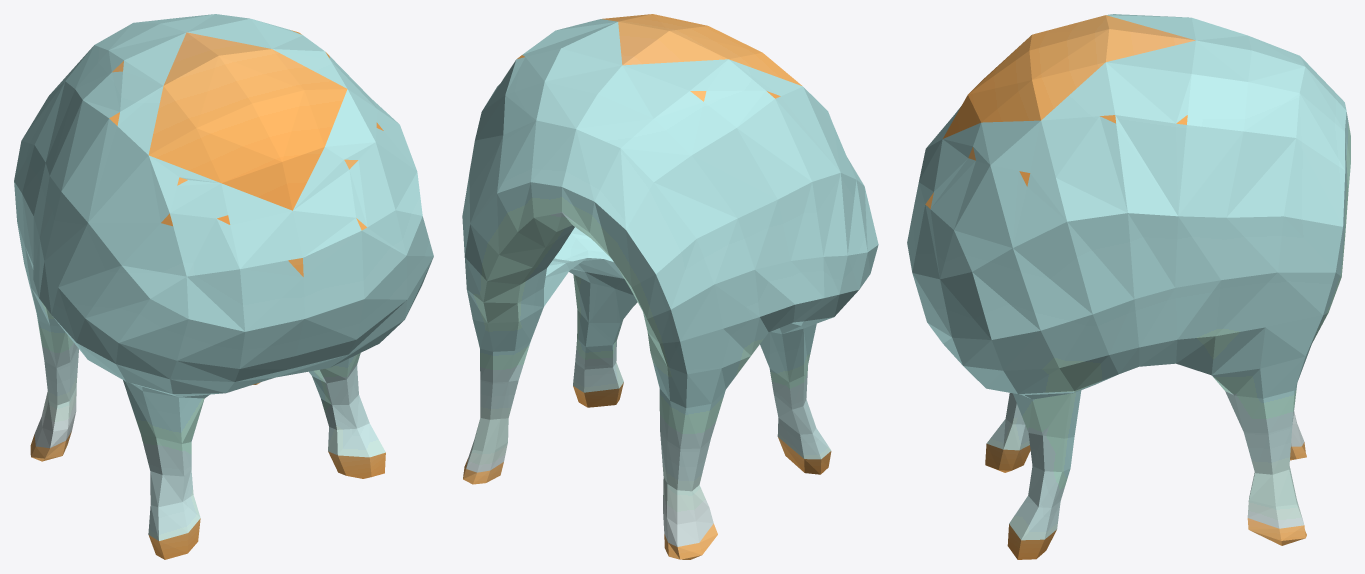
Rendered from CharSkyKid_Hair_AP07Jellyfish_01.glb.
3 renders of one model, left to right at view 1: azimuth 30°, elevation 25°; view 2: azimuth 150°, elevation 25°; view 3: azimuth 270°, elevation 25°, orthographic. The views are drawn at different scales.
Visible parts, largest first — view 1: CharSkyKid_Hair_AP07Jellyfish_01; view 2: CharSkyKid_Hair_AP07Jellyfish_01; view 3: CharSkyKid_Hair_AP07Jellyfish_01.
Part boxes in pixels (x1=…): CharSkyKid_Hair_AP07Jellyfish_01: x1=14, y1=14, x2=433, y2=559; CharSkyKid_Hair_AP07Jellyfish_01: x1=462, y1=14, x2=878, y2=559; CharSkyKid_Hair_AP07Jellyfish_01: x1=907, y1=14, x2=1350, y2=559.
Size of the model in its own units: 3.87 by 4.81 by 3.93.
Materials: 1 (1 with a texture image).
